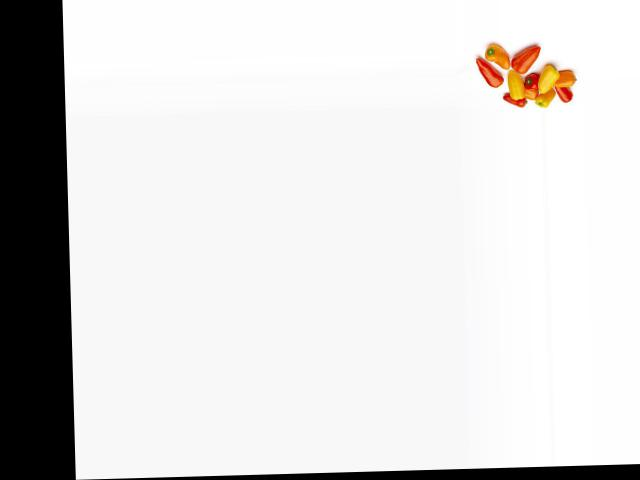bell_pepper: (500, 94, 528, 109)
